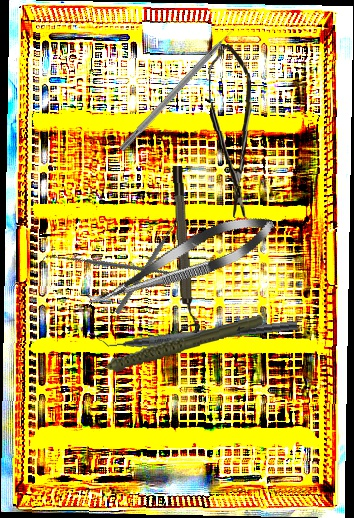Chopper: (91, 306, 298, 356)
Fixation Ring: (169, 165, 201, 334)
Handpiece: (76, 313, 267, 376)
Hook Surgical: (118, 20, 243, 153), (41, 205, 172, 329)
Micro Scissor: (80, 204, 282, 321), (207, 42, 256, 220)
Pusher: (114, 215, 182, 316)
